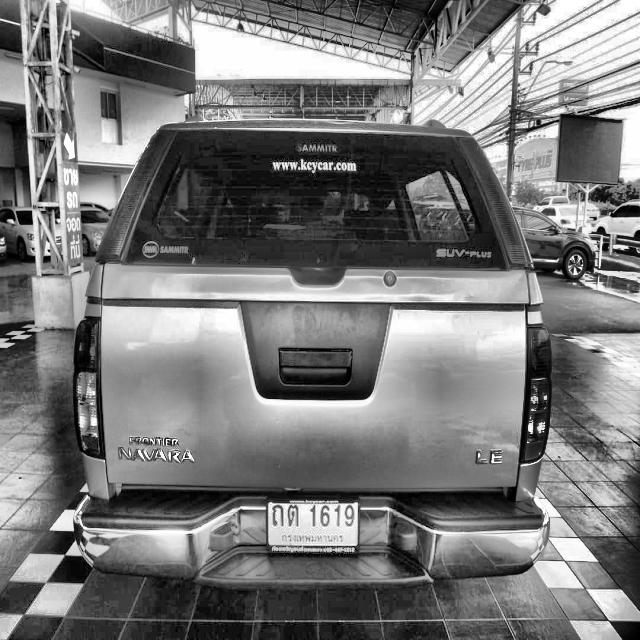license-plate: (267, 496, 359, 554)
